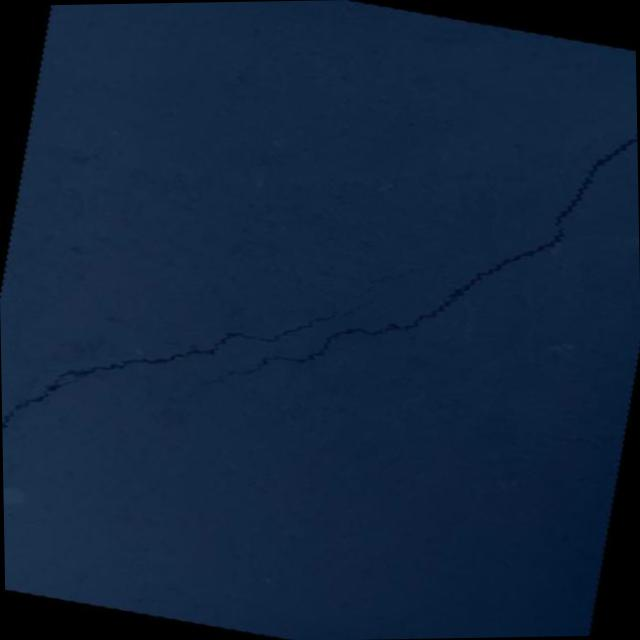crack: (173, 41, 640, 478), (0, 225, 379, 530), (355, 252, 432, 310), (584, 232, 640, 284)
